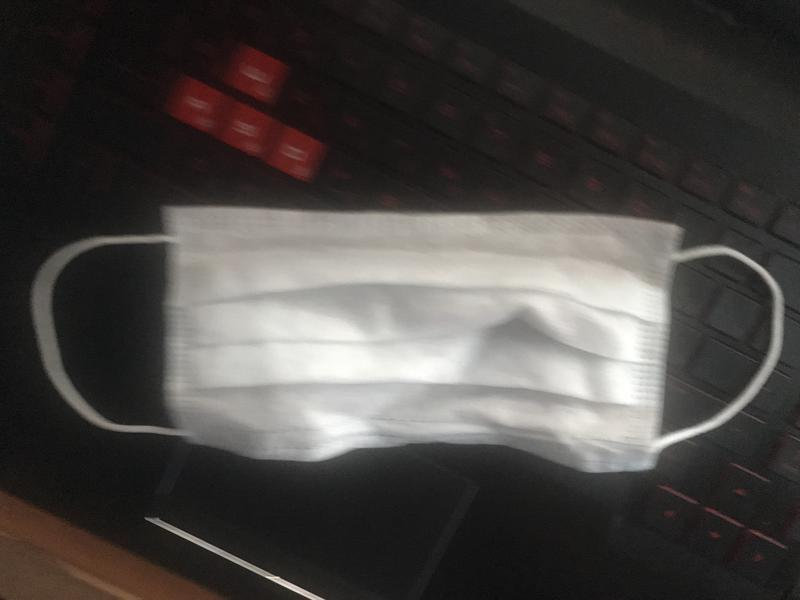medical_mask: (36, 204, 783, 479)
